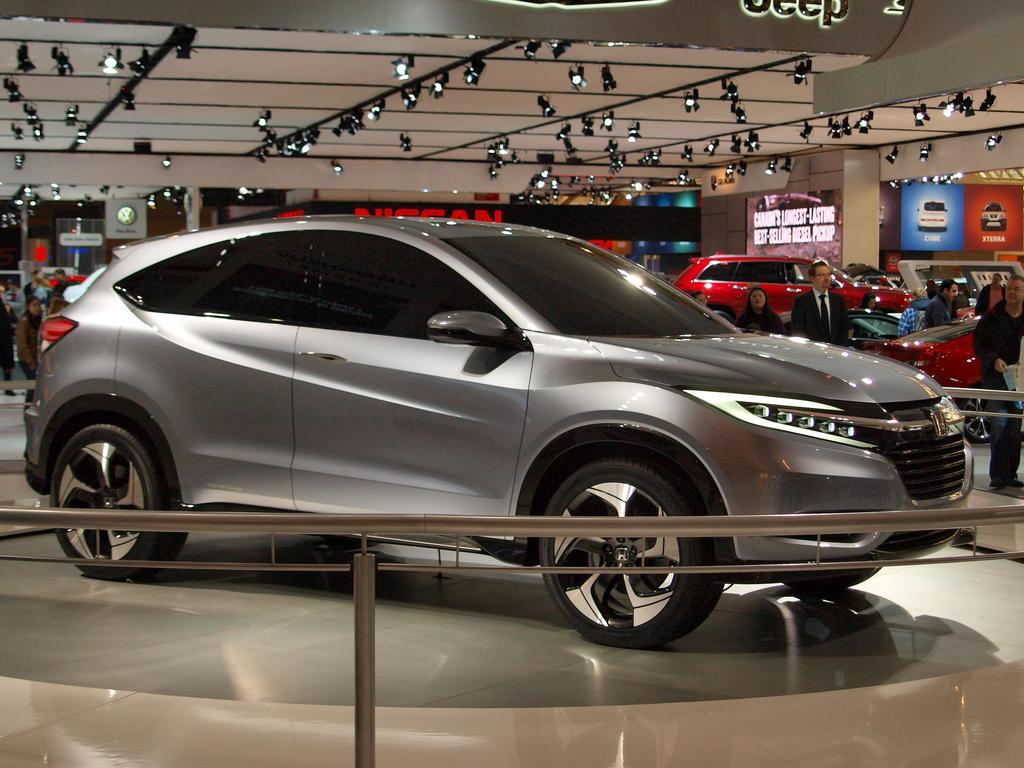Car: (24, 215, 974, 648), (669, 253, 913, 324), (862, 318, 990, 442)
